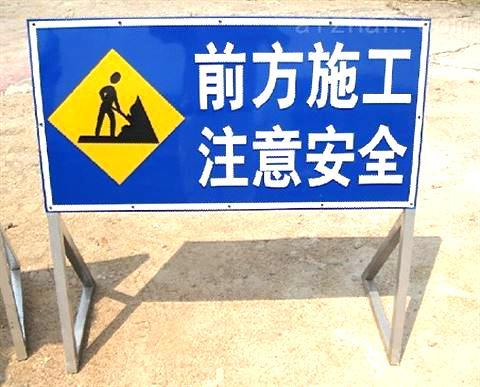sign: (25, 20, 415, 206)
